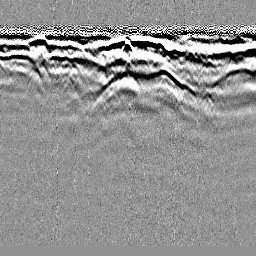cavity: (121, 38, 135, 53)
